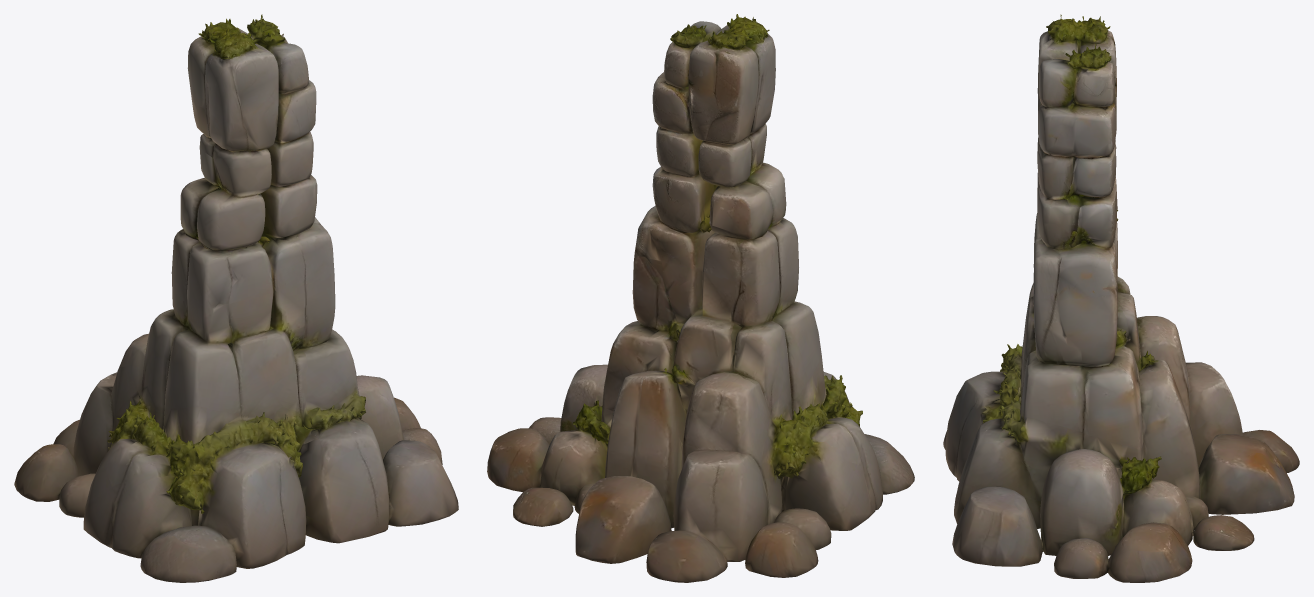
File: rock_stack.glb
3 views of the same model, side by side, from view 1: azimuth 30°, elevation 25°; view 2: azimuth 150°, elevation 25°; view 3: azimuth 270°, elevation 25° (orthographic). The views are drawn at different scales.
Visible parts, largest first — view 1: tripo_node_3ced8c7e-ea27-4a8e-af81-f01cd99ac562; view 2: tripo_node_3ced8c7e-ea27-4a8e-af81-f01cd99ac562; view 3: tripo_node_3ced8c7e-ea27-4a8e-af81-f01cd99ac562.
Boxes of the visible parts, <box> form: tripo_node_3ced8c7e-ea27-4a8e-af81-f01cd99ac562: <box>14,14,458,582</box>; tripo_node_3ced8c7e-ea27-4a8e-af81-f01cd99ac562: <box>487,14,914,582</box>; tripo_node_3ced8c7e-ea27-4a8e-af81-f01cd99ac562: <box>943,14,1299,582</box>.
Bounding box in the file's own units: 0.7767 × 0.999 × 0.6897.
Materials: 1 (1 with a texture image).
